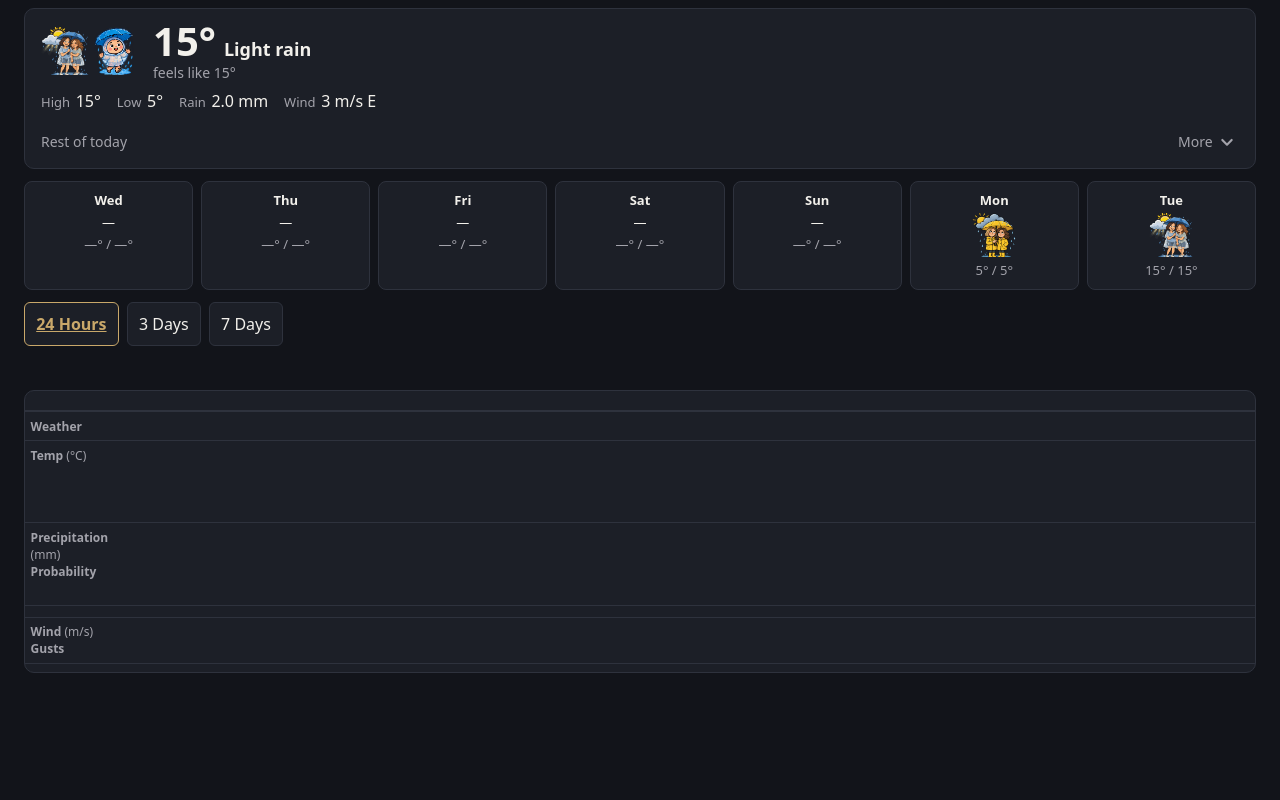
Test case: Today summary card (018-dashboard-visual-redesign, US4) › shows icon/high-low/description/rain/wind-with-compass/sunrise-sunset/moon for today (moon added 041-move-moon-to-today-card, US2)
Expected: the element named "Today" shows "rain", x1=179 y1=93 x2=206 y2=111
Click the button "More" at [1202, 142], box x1=1166 y1=120 x2=1239 y2=164
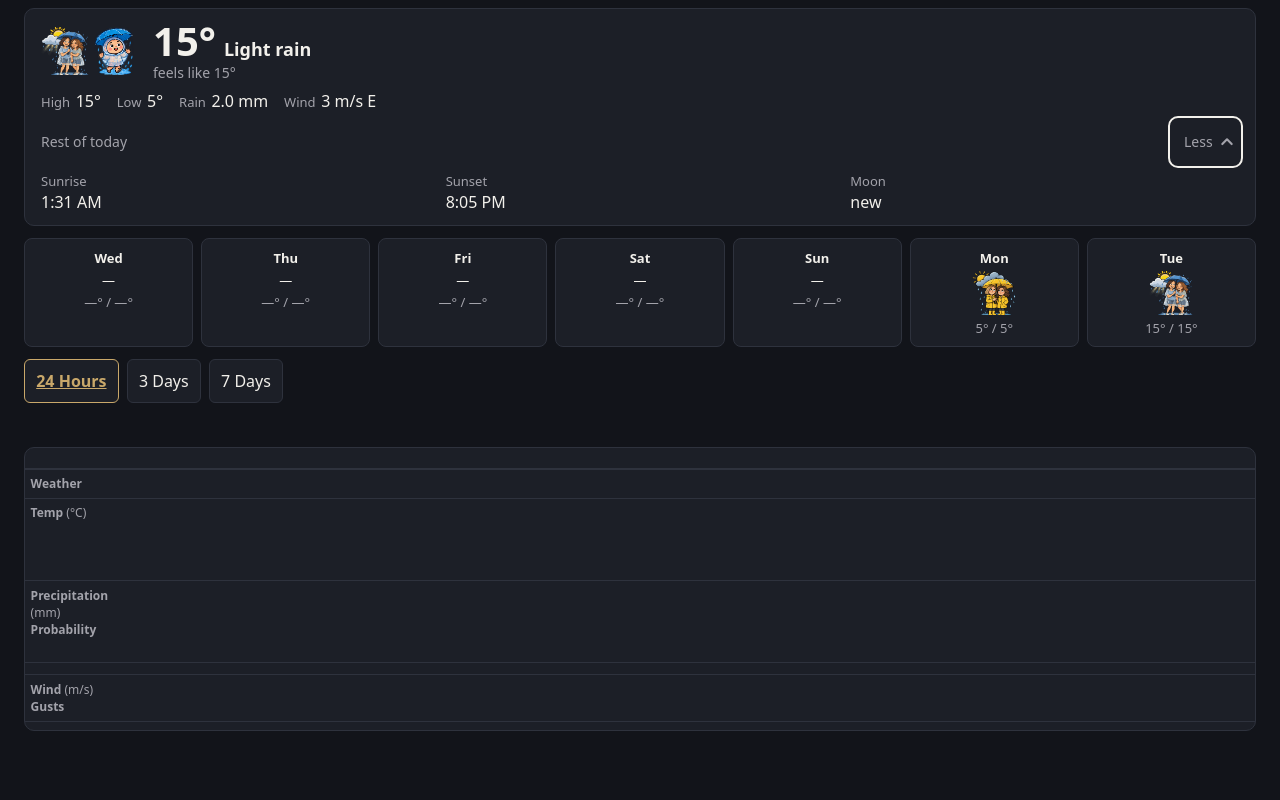
Expected: the element named "Today" shows "Sunrise", x1=41 y1=172 x2=86 y2=190
Expected: the element named "Today" shows "Sunset", x1=446 y1=172 x2=487 y2=190
Expected: the element named "Today" shows "Moon", x1=850 y1=172 x2=886 y2=190
